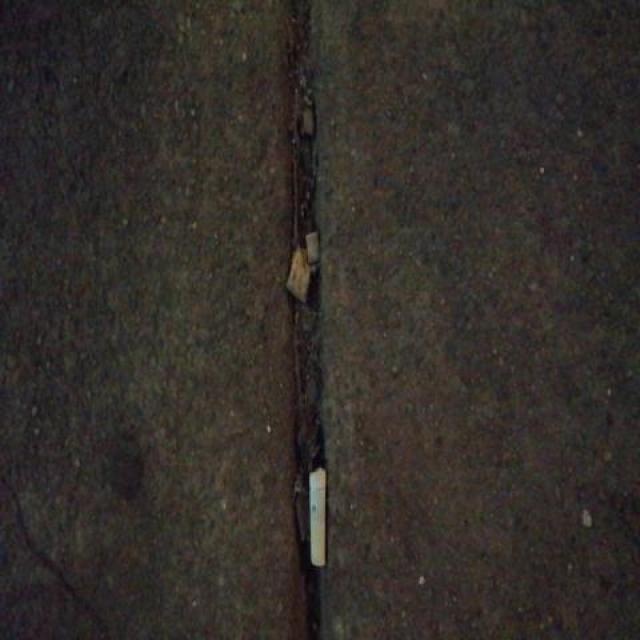non-organic waste: (306, 463, 329, 573)
